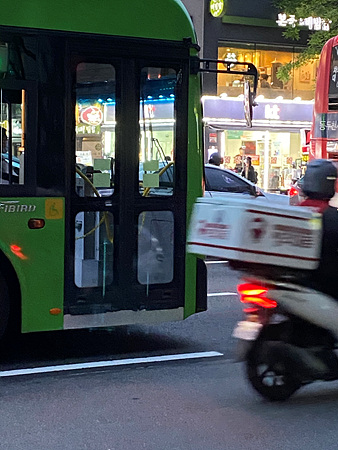entrance: (65, 39, 186, 319)
